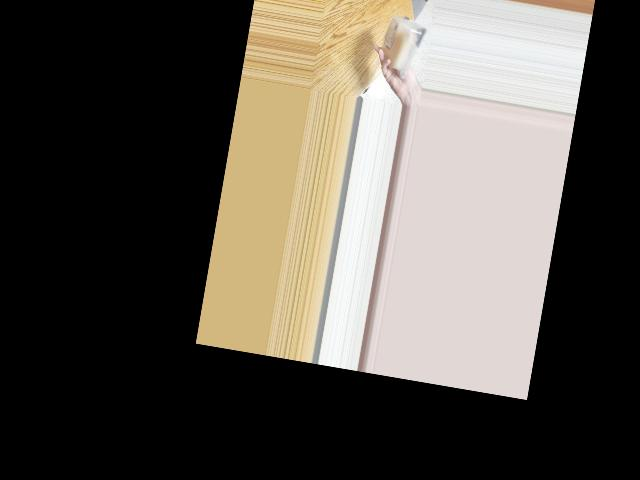cheese: (375, 10, 427, 74)
